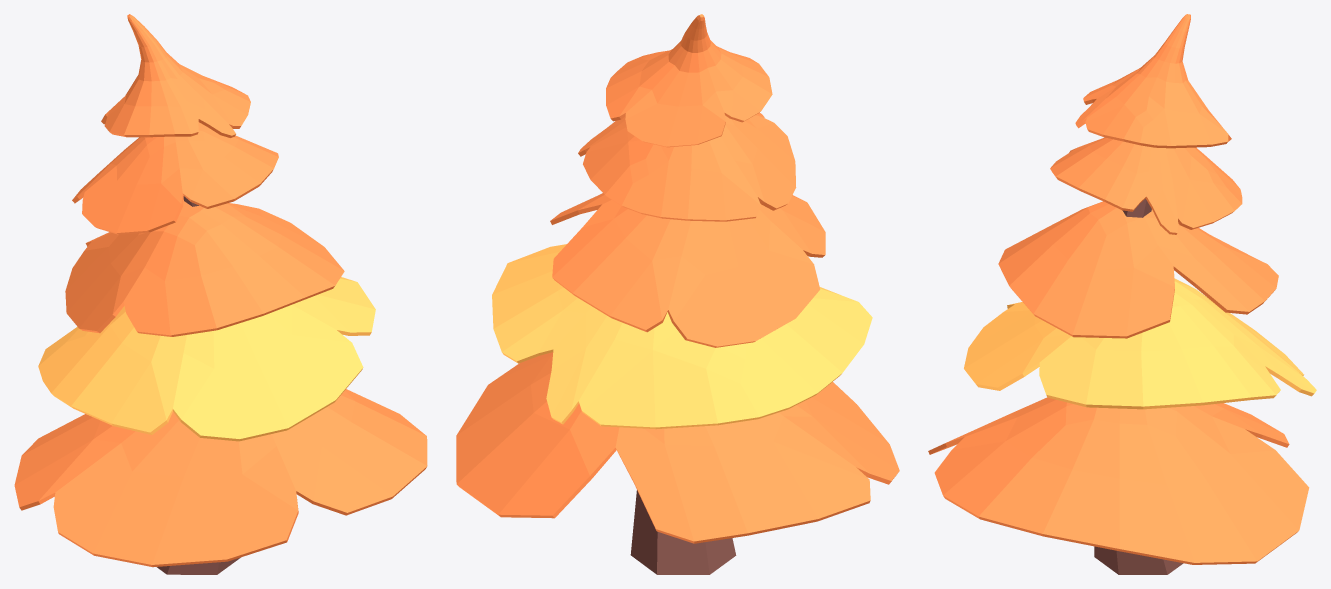
The model's file is PineTree_Autumn_1.glb.
The picture shows the model from 3 angles, left to right: view 1: azimuth 30°, elevation 25°; view 2: azimuth 150°, elevation 25°; view 3: azimuth 270°, elevation 25°; orthographic projection. The views are drawn at different scales.
Visible parts, largest first — view 1: PineTree_Autumn_1; view 2: PineTree_Autumn_1; view 3: PineTree_Autumn_1.
Part boxes in pixels (x1=…): PineTree_Autumn_1: x1=14, y1=14, x2=427, y2=574; PineTree_Autumn_1: x1=456, y1=14, x2=899, y2=574; PineTree_Autumn_1: x1=928, y1=14, x2=1316, y2=574.
Size of the model in its own units: 196 by 270 by 182.
